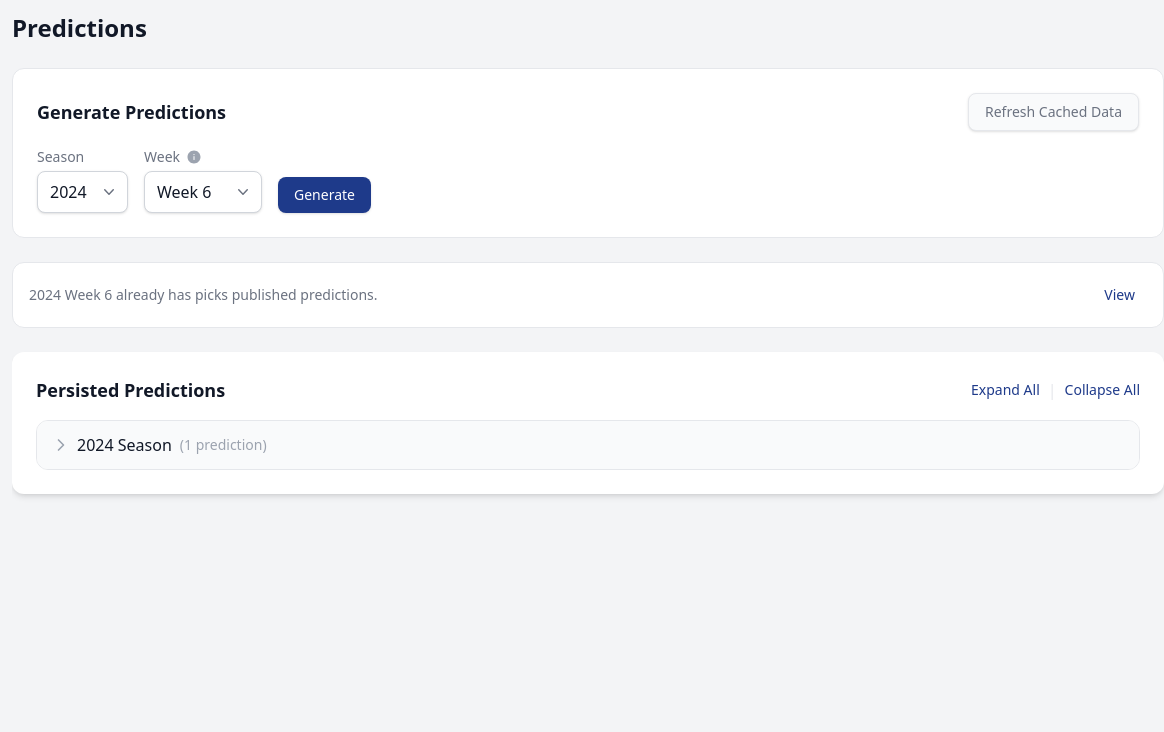
Scenario: PredictionsPage › hides the inline banner once its View button has loaded that week into the active view
Click the button "View": x=1120, y=295 [1092, 279, 1147, 311]
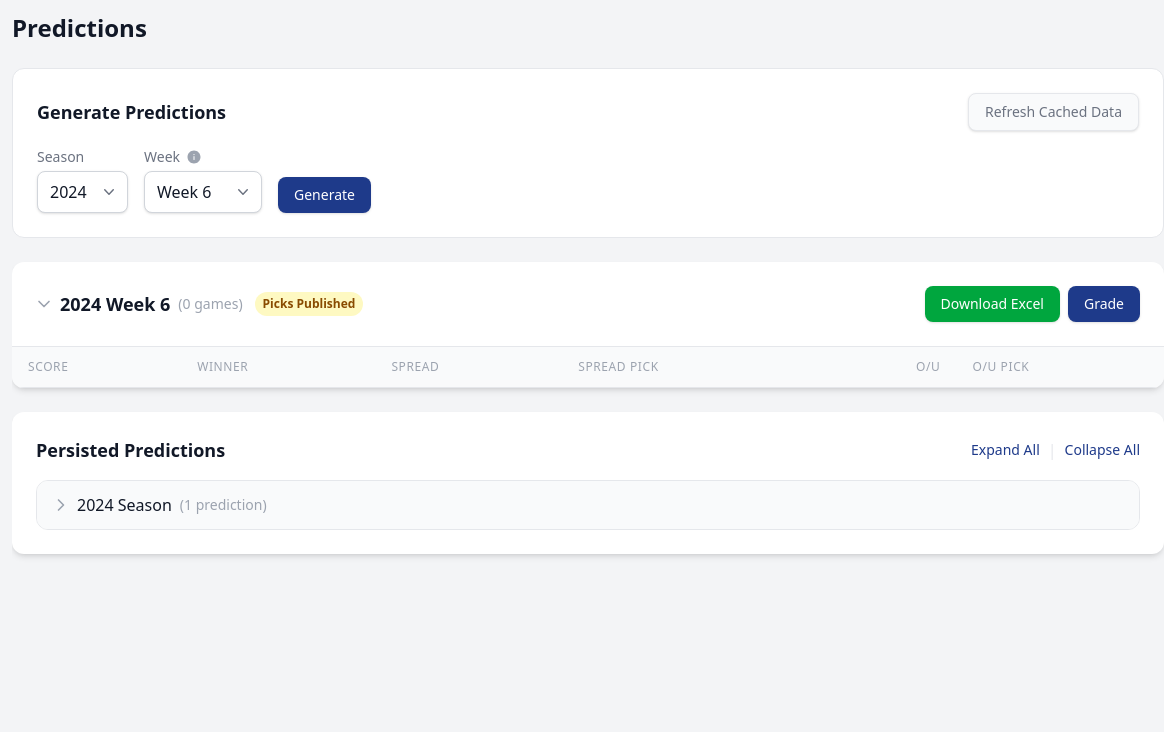
Result: the column heading "Score" is shown at [12, 347, 181, 388]
Result: the text "already has" is gone
